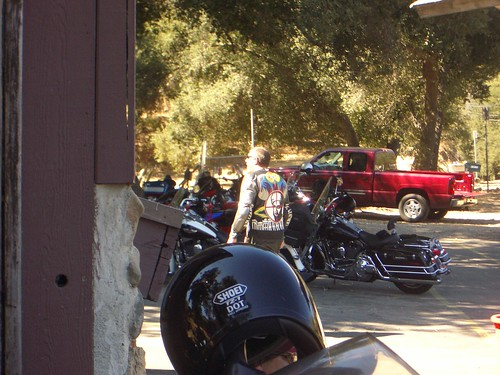helmet: (154, 244, 317, 371)
